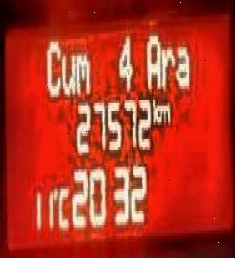0: (88, 161, 104, 230)
1: (33, 183, 43, 230), (47, 186, 53, 233)
2: (70, 161, 87, 230), (129, 158, 146, 224), (136, 91, 150, 152), (74, 97, 89, 152)
3: (110, 158, 127, 227)
4: (115, 28, 134, 89)
5: (105, 94, 119, 149)
7: (121, 94, 136, 149), (91, 97, 105, 152)
X: (43, 33, 60, 97), (145, 28, 160, 89), (174, 42, 190, 89), (60, 47, 75, 97), (75, 47, 89, 97), (160, 42, 174, 89), (58, 183, 68, 230), (159, 97, 169, 125), (152, 94, 158, 124)
